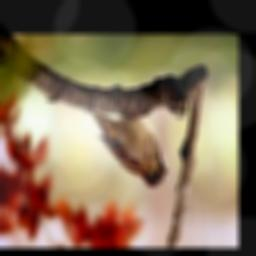Sparrow: (90, 111, 168, 187)
